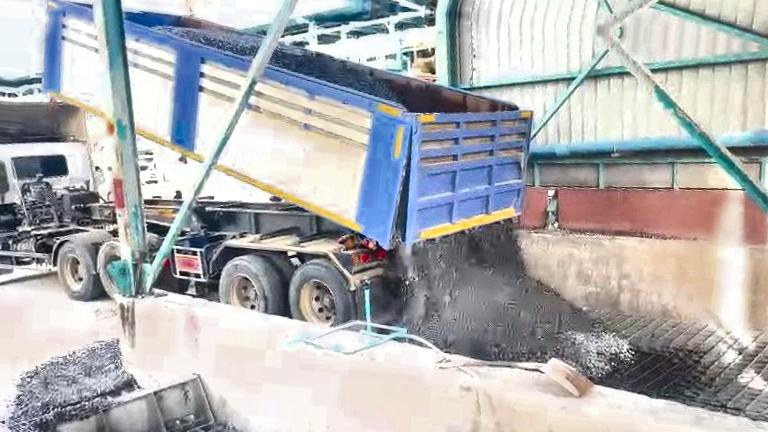gravel: (403, 223, 632, 378), (5, 341, 138, 427), (270, 44, 405, 105), (154, 26, 260, 58)
